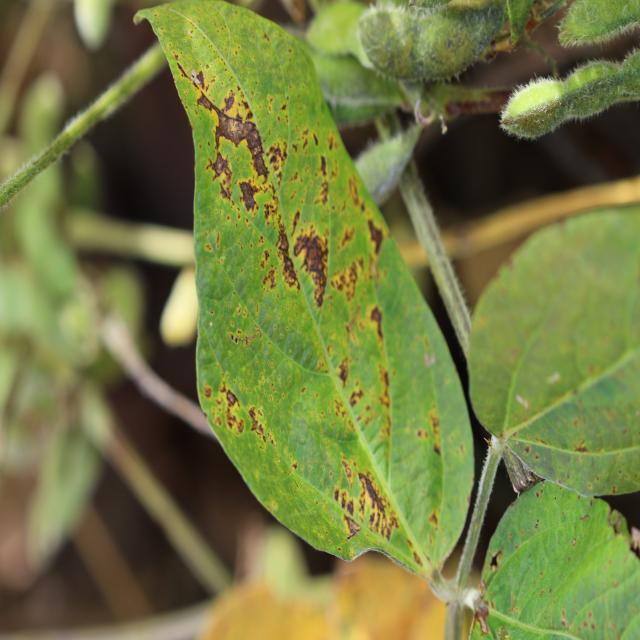Bacterial_Blight: (191, 71, 278, 189), (293, 226, 329, 304), (355, 472, 396, 540), (174, 57, 211, 99), (469, 579, 493, 637), (367, 218, 385, 258), (247, 406, 266, 439), (369, 306, 384, 344), (230, 330, 259, 348), (427, 408, 441, 445), (342, 515, 361, 538), (336, 355, 350, 386), (261, 267, 277, 292), (488, 550, 503, 571), (225, 389, 239, 408), (573, 439, 589, 453), (428, 510, 438, 528), (203, 383, 212, 400), (416, 428, 428, 440), (579, 514, 590, 521), (524, 445, 530, 455)
Soybean: (136, 0, 474, 600)
